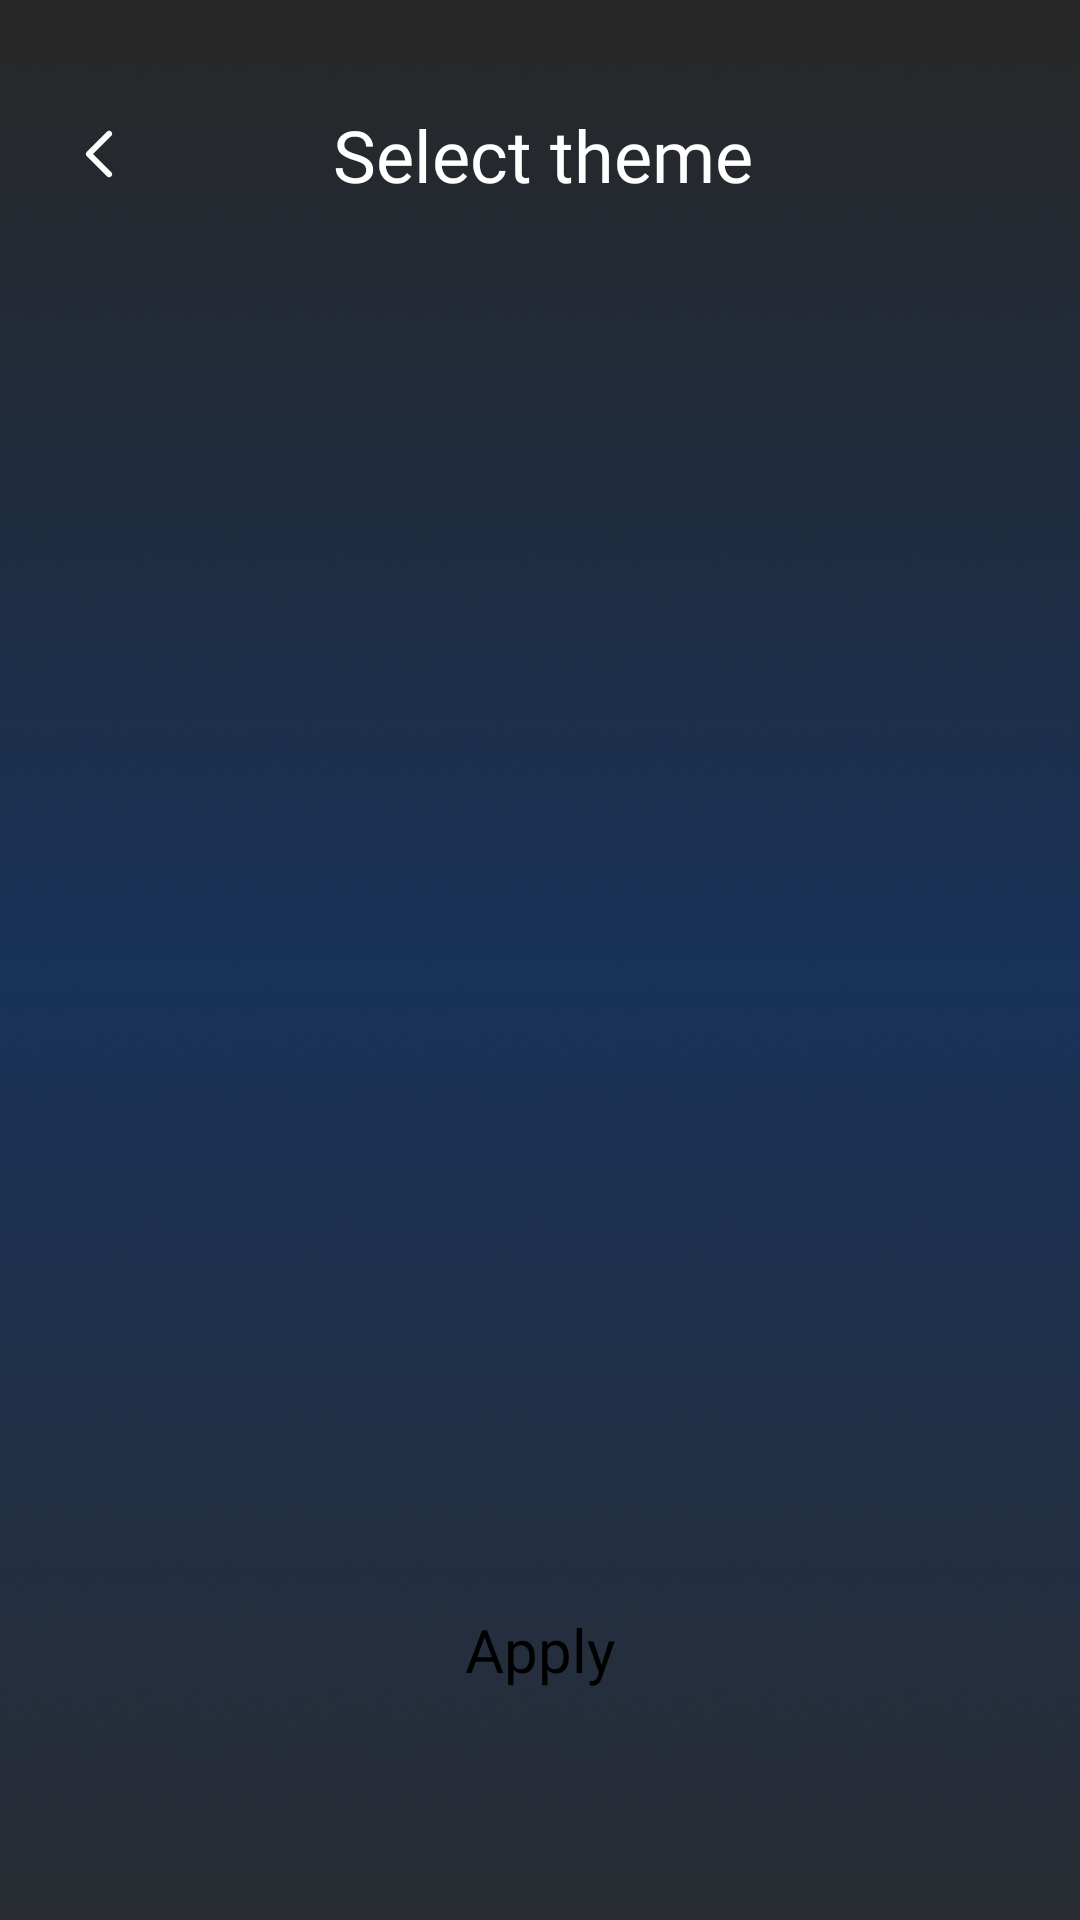

Named icons in this screenshot (1080*1920) and their bounding boxes, (x1, y1, x2, y2):
back: (86, 130, 113, 178)
